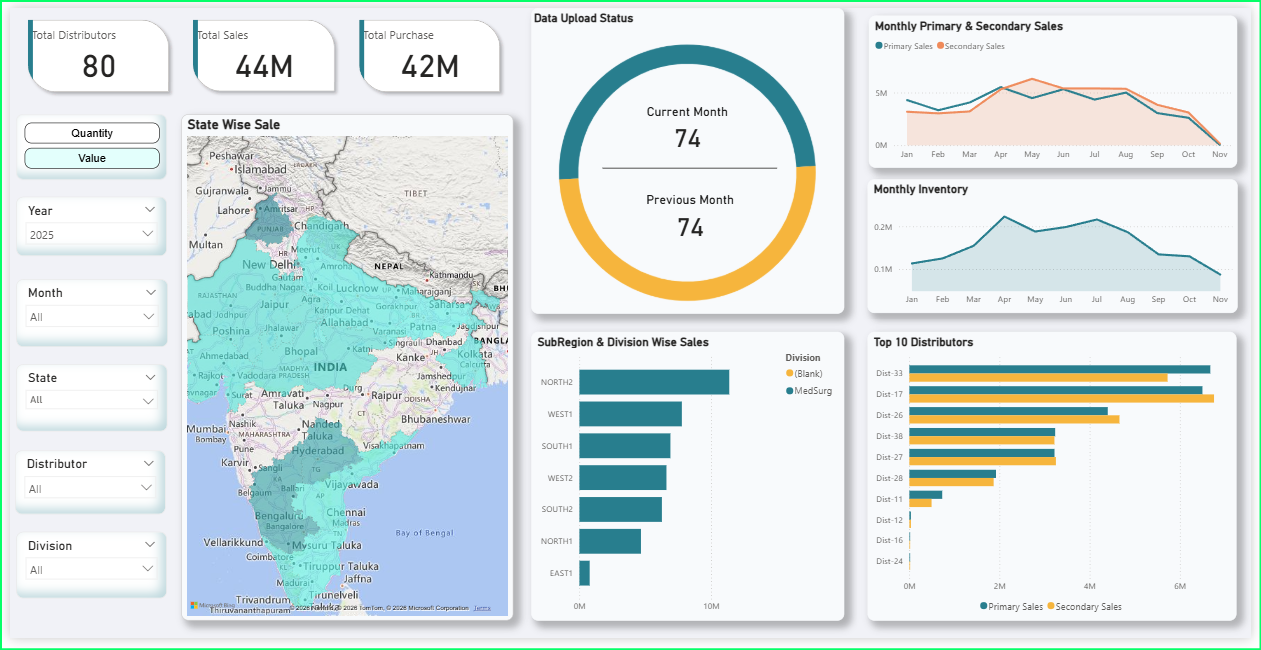

Layout of this report page (visuals, bound fields, positions):
{"tool":"powerbi","page":{"name":"Page 1","canvas":[1772,900],"ordinal":0},"visuals":[{"type":"slicer","fields":{"Values":["CalendarTable.Year"]},"box":[8.9,268.9,215.6,84.4],"z":0},{"type":"slicer","fields":{"Values":["DISTRIBUTORDIVISIONSALESMAN.PDistributor.STATE"]},"box":[8.2,508.6,216.3,95.9],"z":1000},{"type":"slicer","fields":{"Values":["SummarizedData.Distributor Clean"]},"box":[6.7,631.3,215.6,91.1],"z":2000},{"type":"slicer","fields":{"Values":["SummarizedData.division"]},"box":[8.9,749,215.6,95.6],"z":3000},{"type":"slicer","fields":{"Values":["CalendarTable.Month"]},"box":[8.6,387.1,217.2,96.8],"z":4000},{"type":"lineChart","title":"Monthly Primary & Secondary Sales","fields":{"Category":["CalendarTable.ShortMonth"],"Y":["SummarizedData.SelectedPrimaryMeasure","SummarizedData.SelectedSecondaryMeasure"]},"box":[1226.7,11.1,526.7,217.8],"z":5000},{"type":"lineChart","title":"Monthly Inventory","fields":{"Y":["SummarizedData.SelectedInventoryMeasure"],"Category":["CalendarTable.ShortMonth"]},"box":[1224.4,244.4,528.9,191.1],"z":6000},{"type":"barChart","title":"SubRegion & Division Wise Sales","fields":{"Y":["SummarizedData.SelectedSecondaryMeasure"],"Series":["SummarizedData.division"],"Category":["PDistributor.SUBREGION"]},"box":[744.1,462.4,447.3,412.9],"z":7000},{"type":"clusteredBarChart","title":"Top 10 Distributors","fields":{"Y":["SummarizedData.SelectedPrimaryMeasure","SummarizedData.SelectedSecondaryMeasure"],"Category":["SummarizedData.Distributor Clean"]},"box":[1225.8,462.4,526.9,412.9],"z":8000},{"type":"cardVisual","fields":{"Data":["CountNonNull(DISTRIBUTORDIVISIONSALESMAN.DistributorId)"]},"box":[8.9,0,235.6,137.8],"z":9000},{"type":"cardVisual","fields":{"Data":["SummarizedData.SelectedSecondaryMeasure"]},"box":[244.9,0,236.7,136.7],"z":10000},{"type":"cardVisual","fields":{"Data":["SummarizedData.SelectedPrimaryMeasure"]},"box":[482.2,0,235.6,137.8],"z":11000},{"type":"ChicletSlicer1448559807354","fields":{"Category":["SelectionTable.Selection"]},"box":[8.9,151.1,215.6,93.3],"z":12000},{"type":"shape","title":"Data Upload Status","box":[744.1,0,447.3,436.5],"z":13000},{"type":"image","box":[744.1,34.4,447.3,402.1],"z":14000},{"type":"cardVisual","fields":{"Data":["CountNonNull(DataUploadStatus.UploadMonthLabel)"]},"box":[873.1,116.1,189.2,111.8],"z":15000},{"type":"shape","box":[847.3,221.5,249.5,15.1],"z":16000},{"type":"cardVisual","fields":{"Data":["CountNonNull(DataUploadStatus.UploadMonthLabel)"]},"box":[868.8,243,204.3,109.7],"z":17000},{"type":"filledMap","title":"State Wise Sale","fields":{"Category":["DISTRIBUTORDIVISIONSALESMAN.PDistributor.STATE"]},"box":[244.7,151.1,474.5,723.4],"z":18000}]}

Visuals, with their boxes in screenshot pixels (x1, y1, x2, y2), scaled from the page's 1772x900 canvas onto the 1261x650 screenshot:
slicer - CalendarTable.Year: Rect(6, 194, 160, 255)
slicer - DISTRIBUTORDIVISIONSALESMAN.PDistributor.STATE: Rect(6, 367, 160, 437)
slicer - SummarizedData.Distributor Clean: Rect(5, 456, 158, 522)
slicer - SummarizedData.division: Rect(6, 541, 160, 610)
slicer - CalendarTable.Month: Rect(6, 280, 161, 349)
"Monthly Primary & Secondary Sales" lineChart: Rect(873, 8, 1248, 165)
"Monthly Inventory" lineChart: Rect(871, 177, 1248, 315)
"SubRegion & Division Wise Sales" barChart: Rect(530, 334, 848, 632)
"Top 10 Distributors" clusteredBarChart: Rect(872, 334, 1247, 632)
cardVisual - CountNonNull(DISTRIBUTORDIVISIONSALESMAN.DistributorId): Rect(6, 0, 174, 100)
cardVisual - SummarizedData.SelectedSecondaryMeasure: Rect(174, 0, 343, 99)
cardVisual - SummarizedData.SelectedPrimaryMeasure: Rect(343, 0, 511, 100)
ChicletSlicer1448559807354 - SelectionTable.Selection: Rect(6, 109, 160, 177)
"Data Upload Status" shape: Rect(530, 0, 848, 315)
image: Rect(530, 25, 848, 315)
cardVisual - CountNonNull(DataUploadStatus.UploadMonthLabel): Rect(621, 84, 756, 165)
shape: Rect(603, 160, 781, 171)
cardVisual - CountNonNull(DataUploadStatus.UploadMonthLabel): Rect(618, 176, 764, 255)
"State Wise Sale" filledMap: Rect(174, 109, 512, 632)
